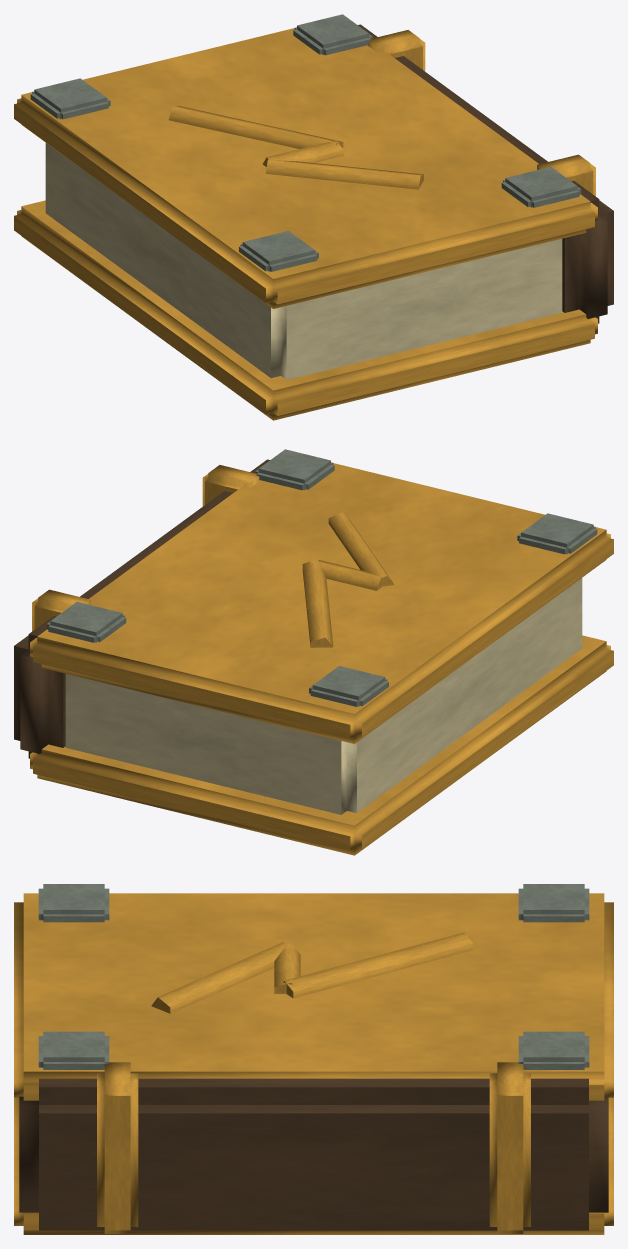
Rendered from item-ThunderclapGrimoire.fbx.
3 views of the same model, one above another, from view 1: azimuth 30°, elevation 25°; view 2: azimuth 150°, elevation 25°; view 3: azimuth 270°, elevation 25° (orthographic). The views are drawn at different scales.
Visible parts, largest first — view 1: item-ThunderclapGrimoire__Geometry; view 2: item-ThunderclapGrimoire__Geometry; view 3: item-ThunderclapGrimoire__Geometry.
Part boxes in pixels (<box>): item-ThunderclapGrimoire__Geometry: <box>14,14,613,420</box>; item-ThunderclapGrimoire__Geometry: <box>14,449,613,855</box>; item-ThunderclapGrimoire__Geometry: <box>14,884,613,1234</box>.
Size of the model in its own units: 0.445 by 0.177 by 0.55.
Materials: 1 (1 with a texture image).
